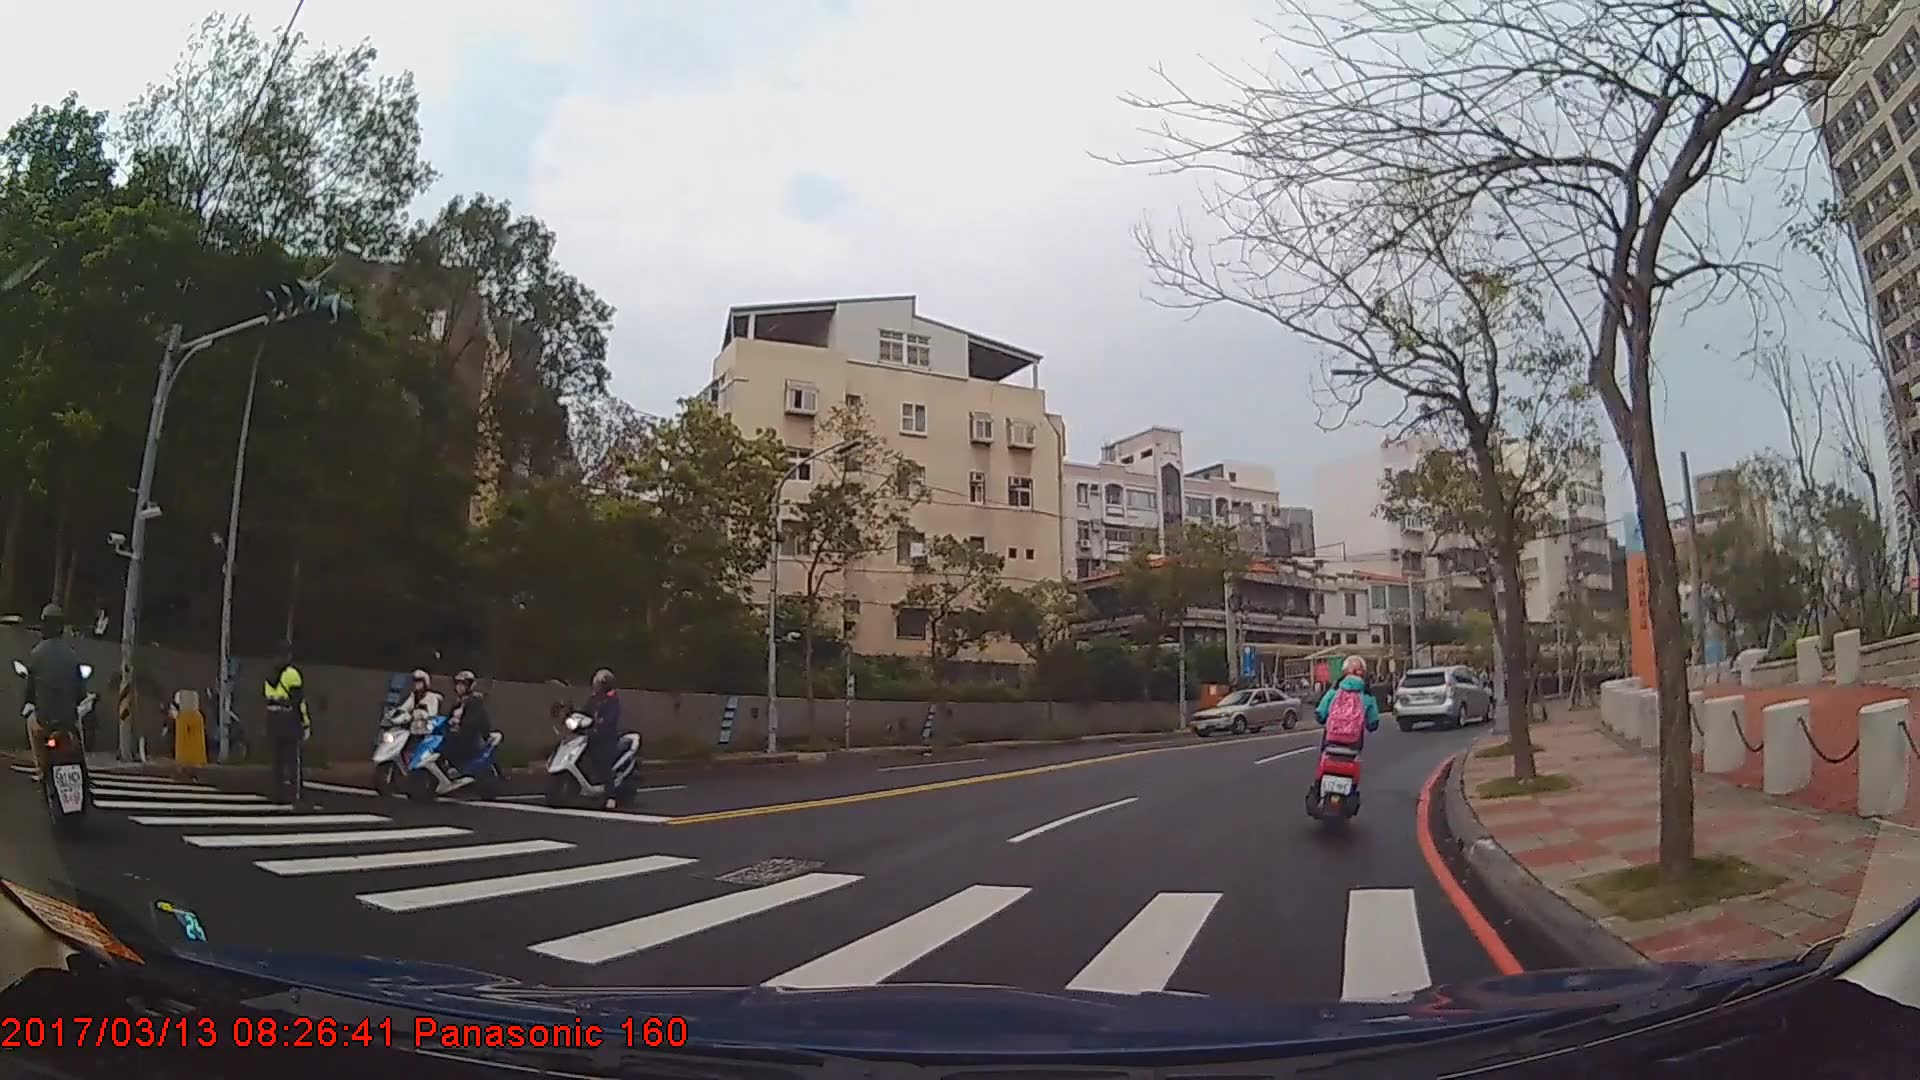pedestrian: (259, 636, 316, 803)
rider: (25, 601, 92, 830), (543, 670, 644, 810), (1308, 656, 1379, 822), (371, 665, 456, 790), (415, 668, 499, 798)
vehicle: (1387, 664, 1498, 729), (1188, 686, 1300, 738)
